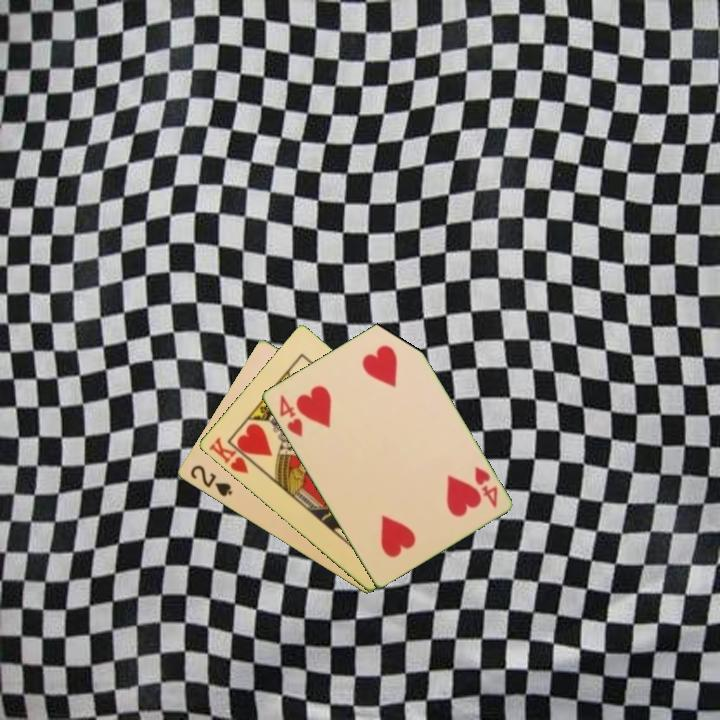2s: (186, 462, 235, 500)
4h: (275, 391, 306, 439), (470, 463, 500, 511)
Kh: (205, 433, 259, 476)
